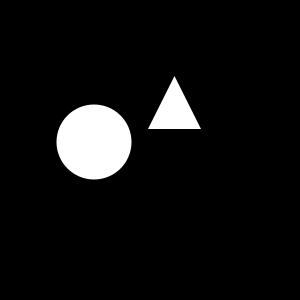rectangle: (57, 104, 132, 180)
triangle: (148, 76, 201, 129)
